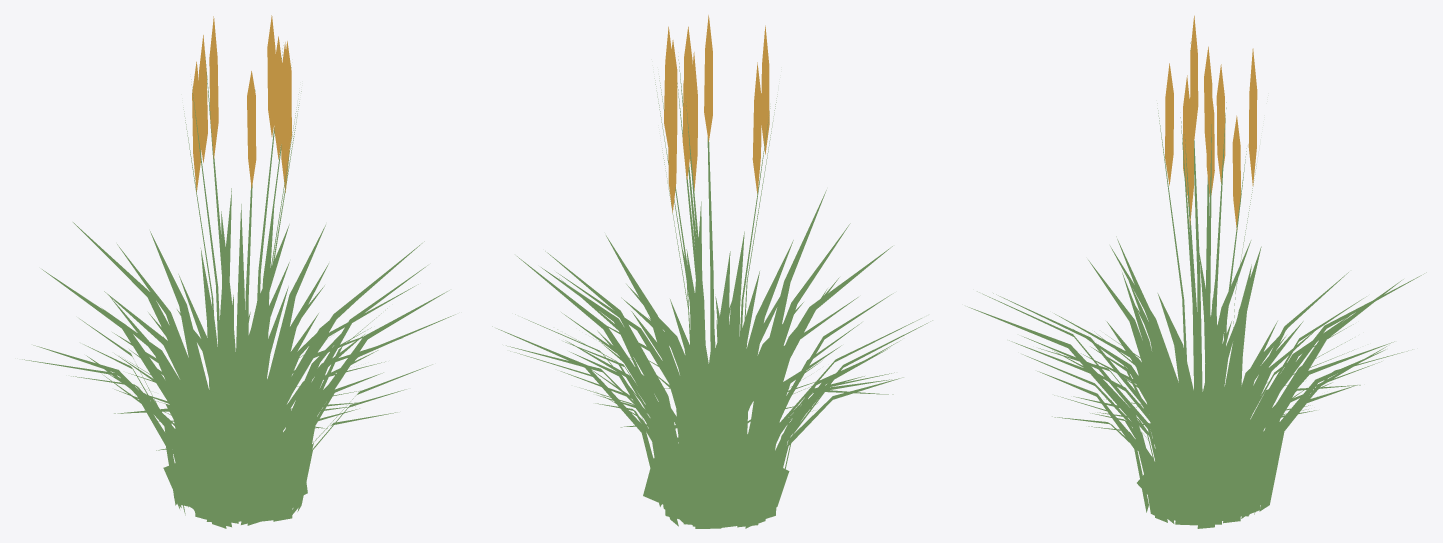
The model's file is Blender_Indiangrass_1.glb.
3 renders of one model, left to right at view 1: azimuth 30°, elevation 25°; view 2: azimuth 150°, elevation 25°; view 3: azimuth 270°, elevation 25°, orthographic. The views are drawn at different scales.
Parts seen in each view (by area): view 1: Blender_Indiangrass_1; view 2: Blender_Indiangrass_1; view 3: Blender_Indiangrass_1.
Boxes of the visible parts, x1,y1,x2,y2 form: Blender_Indiangrass_1: (22, 15, 455, 528); Blender_Indiangrass_1: (492, 15, 932, 528); Blender_Indiangrass_1: (967, 15, 1426, 528).
Bounding box in the file's own units: 1.49 × 1.73 × 1.56.
